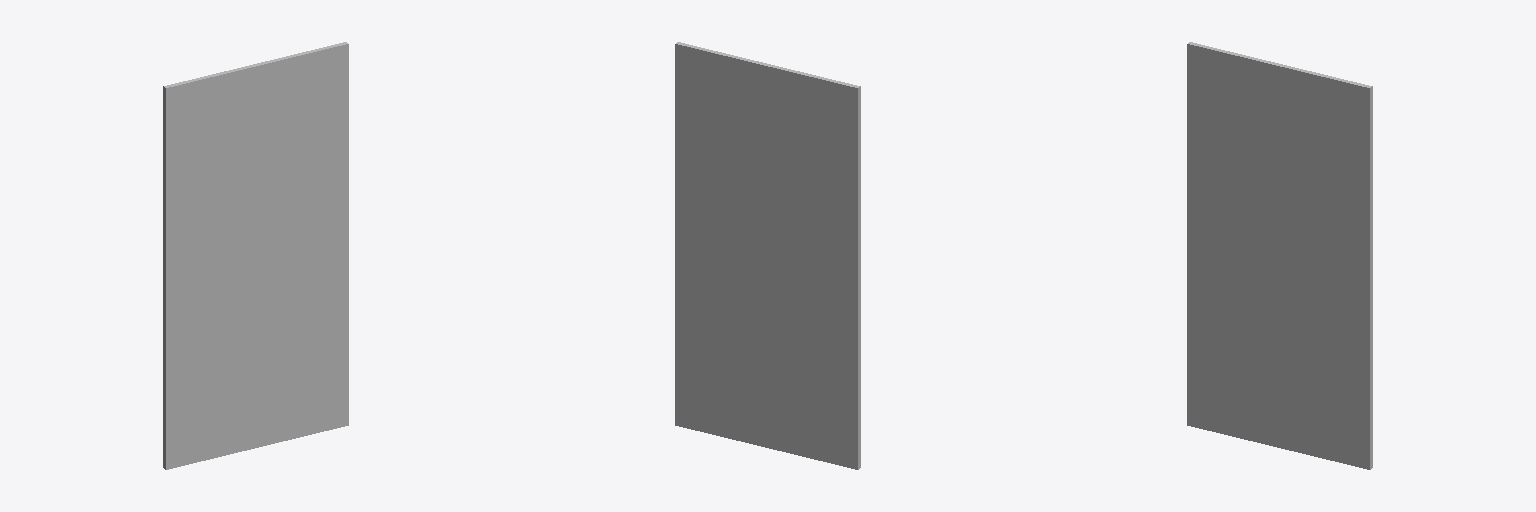
File: door.obj
3 views of the same model, side by side, from view 1: azimuth 30°, elevation 25°; view 2: azimuth 150°, elevation 25°; view 3: azimuth 330°, elevation 25° (orthographic).
Bounding box in the file's own units: 40 × 80 × 1.